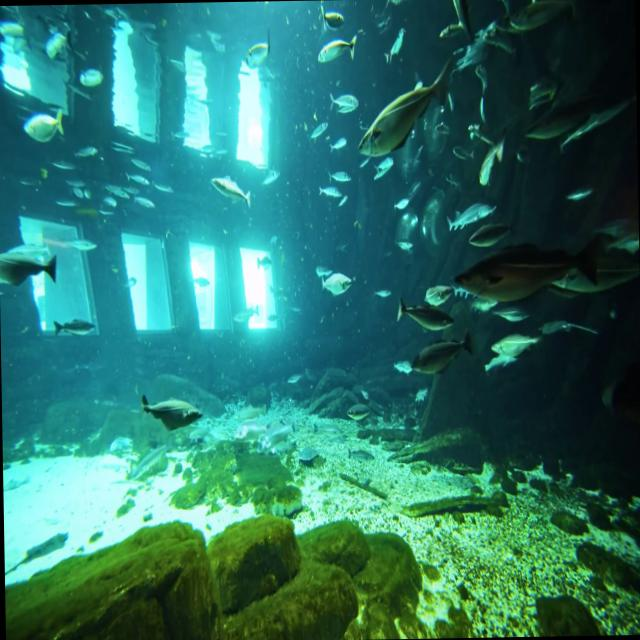fish: (448, 226, 600, 320), (348, 49, 455, 160), (408, 325, 478, 391), (0, 243, 72, 303), (138, 384, 204, 432), (392, 291, 454, 340), (46, 306, 104, 352), (446, 185, 496, 238), (486, 320, 548, 362), (18, 102, 68, 152), (471, 134, 511, 188), (210, 160, 252, 211), (314, 28, 360, 72), (241, 23, 276, 72), (36, 22, 74, 64), (321, 258, 354, 304), (323, 85, 361, 121), (315, 0, 345, 32)
